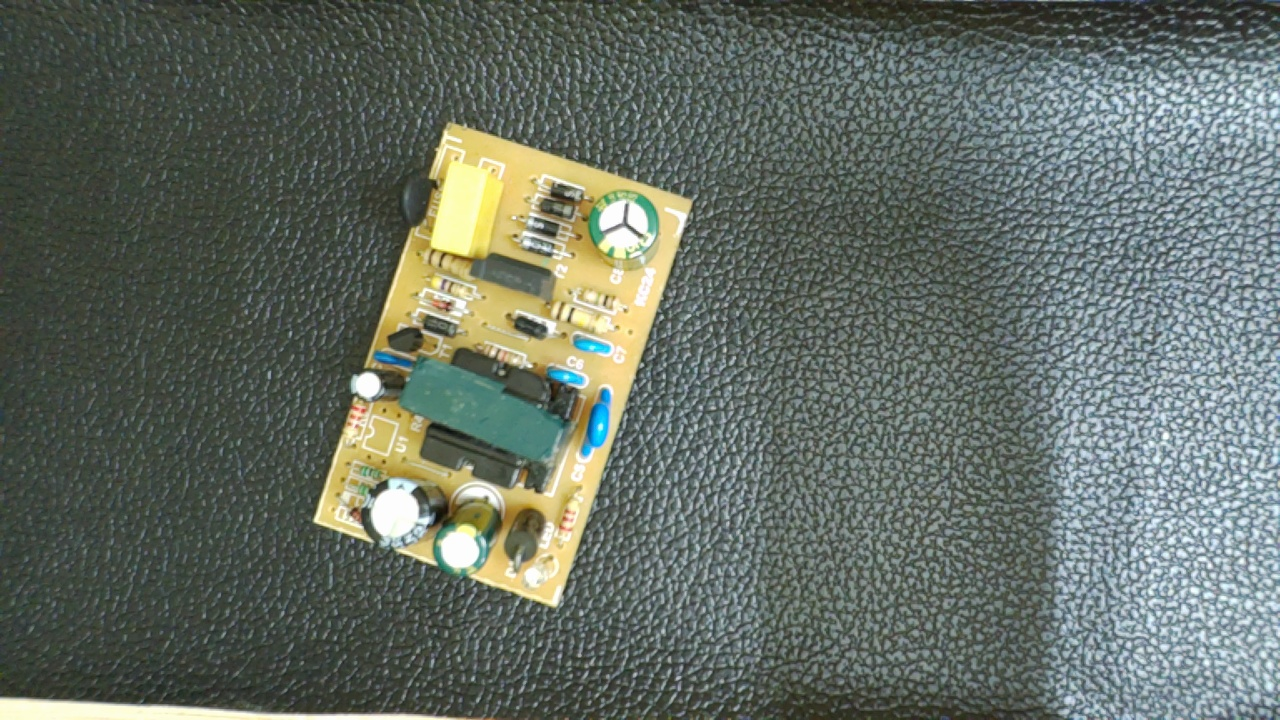fuse: (398, 161, 443, 245)
hv_capacitor: (585, 182, 665, 273)
mov: (576, 380, 618, 468)
